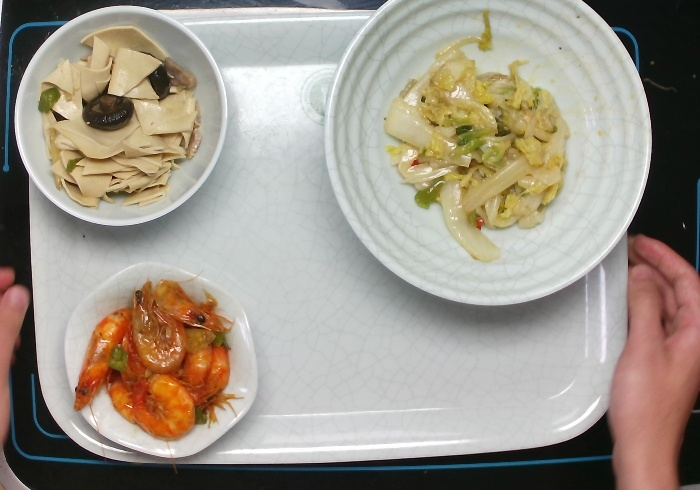JYsf-Da_Tang_Wan: (321, 1, 656, 308)
JYsf-Fan_Wan: (14, 6, 235, 232)
WCQzf-Hua_Duo_Wan: (54, 259, 265, 470)
